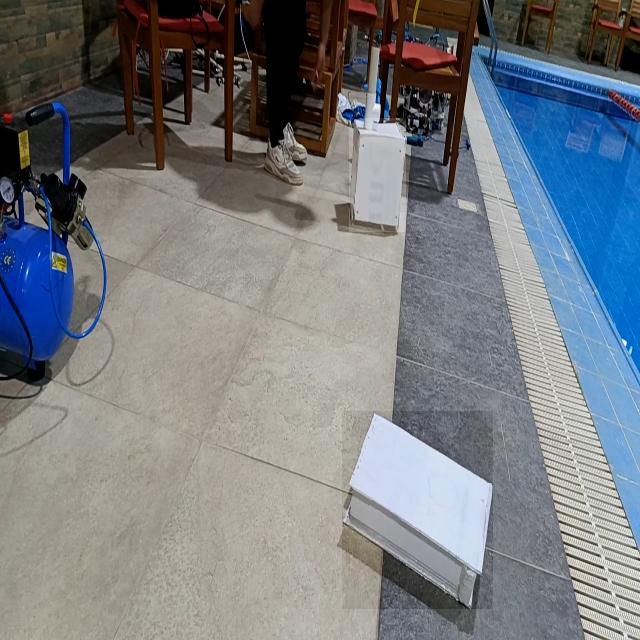Cube: (349, 118, 406, 232)
Cuboid: (342, 411, 493, 609)
